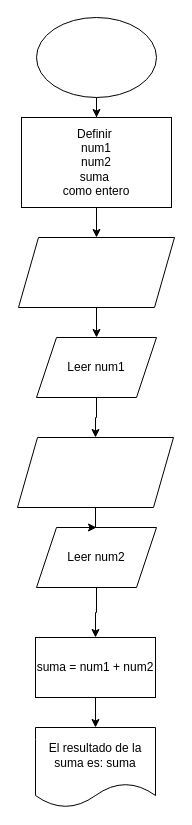
The diagram is 192 pixels wide and 825 high, and some of its shapes have lost their labels. The shapes that lost their labels are listed below. From the top down, each one's centre as x and y in pixels, then its label:
the point at 96,57: Inicio
the point at 96,272: "Introduzca el primer número (entero)"
the point at 95,472: "Introduzca el segundo número (entero)"
